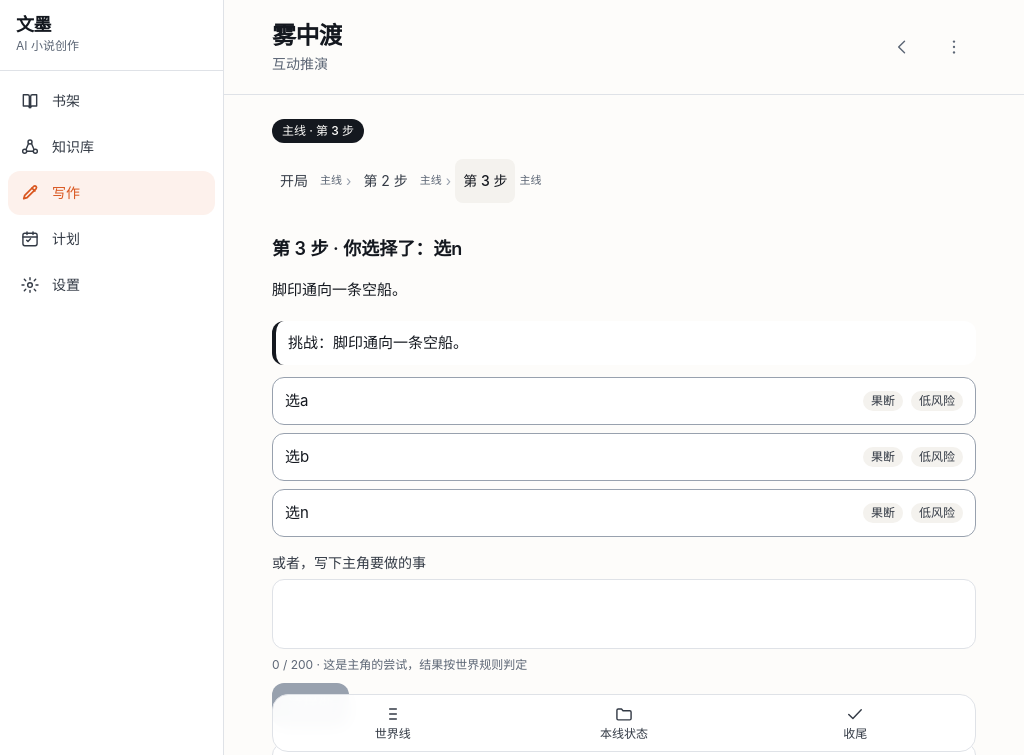
Scenario: 沉淀这条线（主线） › 其中一段已沉淀为外传后又成了主线：提示是哪几步、哪部外传，仍可沉淀进主线（设计 §11）
The image size is (1024, 755).
Check: the heading "第 3 步 · " is shown, box top-left (272, 238), bottom-right (462, 259)
Click the button named "更多" at [954, 47], box top-left (932, 25), bottom-right (976, 69)
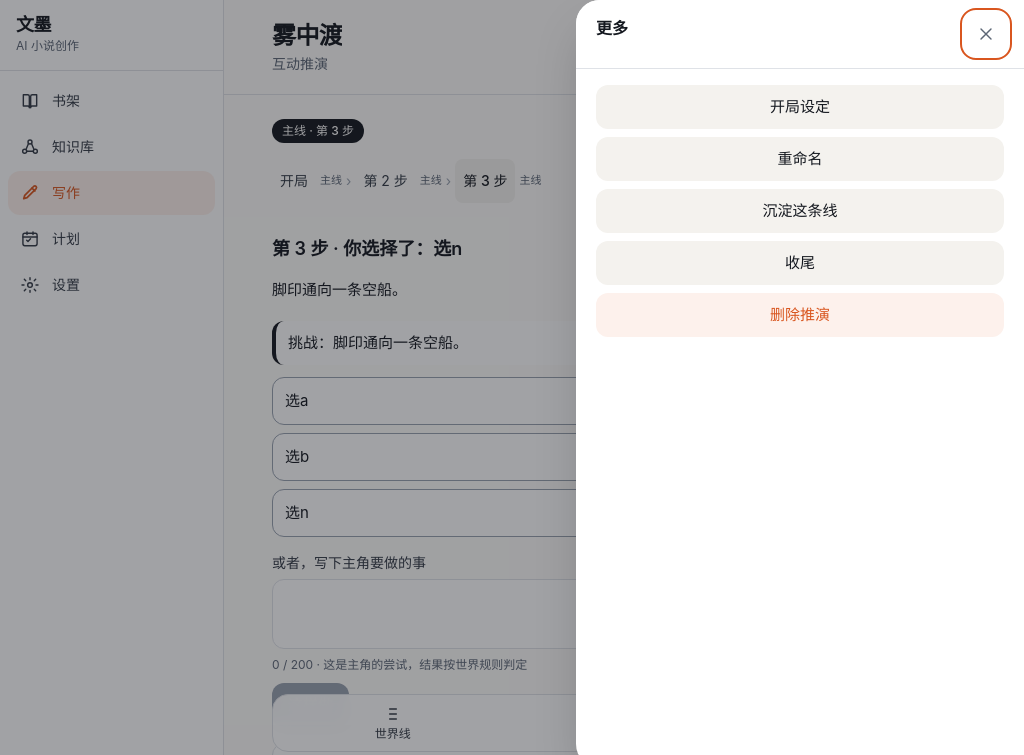
Click the button "沉淀这条线" at [800, 211], box top-left (596, 189), bottom-right (1004, 233)
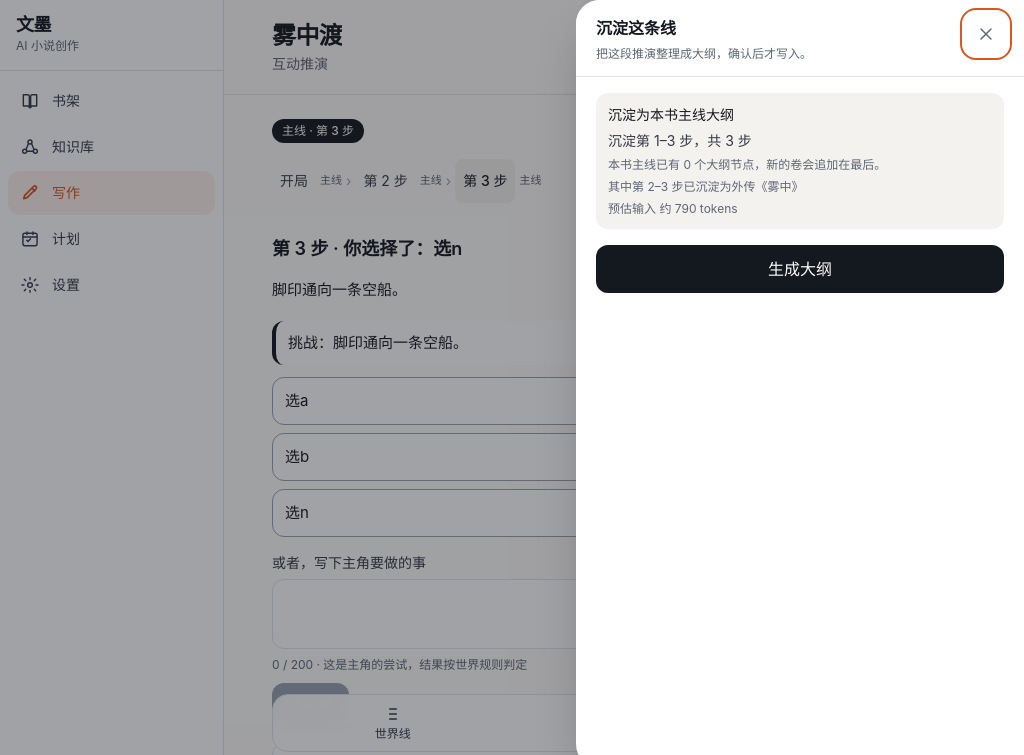
Check: the text "沉淀为本书主线大纲" is shown, box top-left (608, 106), bottom-right (734, 122)
Check: the text "沉淀第 1–3 步，共 3 步" is shown, box top-left (608, 132), bottom-right (752, 148)
Check: the text "其中第 2–3 步已沉淀为外传《雾中》" is shown, box top-left (608, 178), bottom-right (804, 194)
